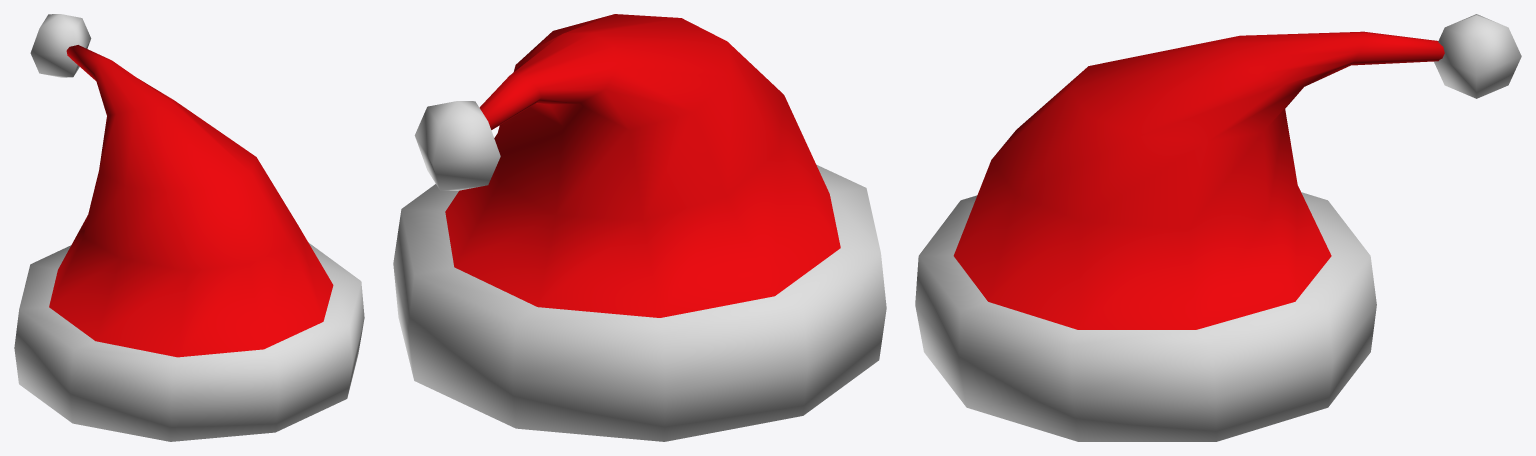
File: hatLow.fbx
3 views of the same model, side by side, from view 1: azimuth 30°, elevation 25°; view 2: azimuth 150°, elevation 25°; view 3: azimuth 270°, elevation 25° (orthographic). The views are drawn at different scales.
Visible parts, largest first — view 1: hatLow; view 2: hatLow; view 3: hatLow.
Part boxes in pixels (box(x1,y1,x2,y2)): hatLow: box(14, 14, 364, 441); hatLow: box(393, 14, 886, 441); hatLow: box(915, 14, 1521, 441).
Size of the model in its own units: 0.1952 by 0.1661 by 0.2712.
